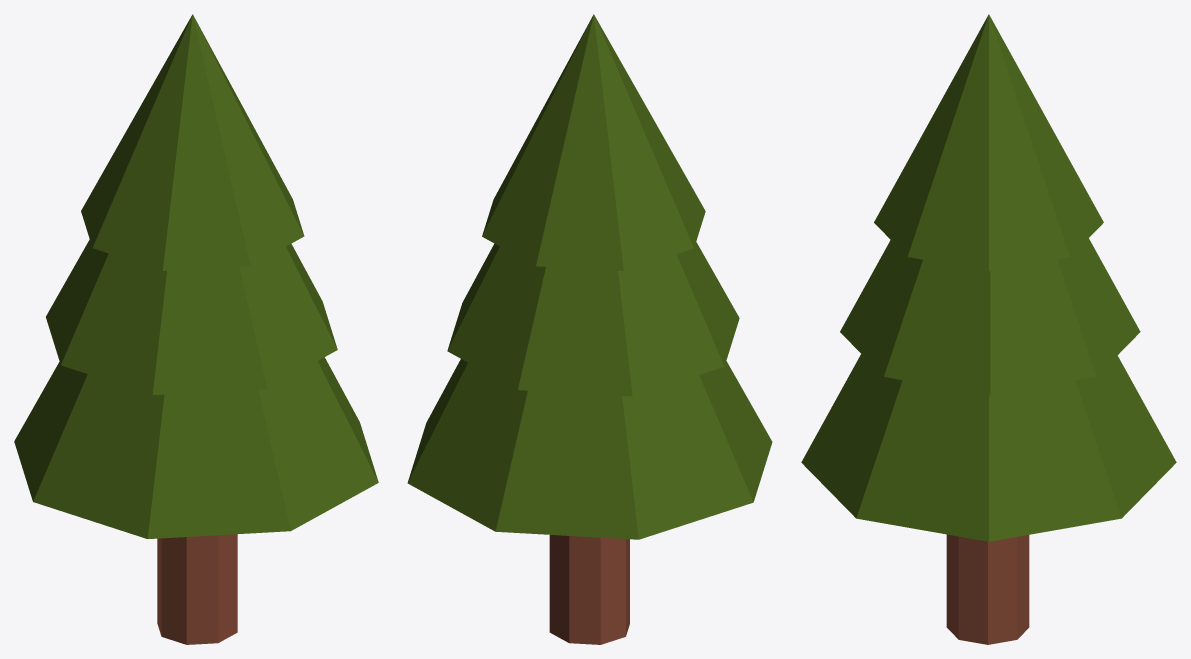
The model's file is skalertGrantre.fbx.
The picture shows the model from 3 angles, left to right: view 1: azimuth 30°, elevation 25°; view 2: azimuth 150°, elevation 25°; view 3: azimuth 270°, elevation 25°; orthographic projection.
Parts seen in each view (by area): view 1: BottomCone, MiddleCone, TopCone, Trunk; view 2: BottomCone, MiddleCone, TopCone, Trunk; view 3: BottomCone, MiddleCone, TopCone, Trunk.
Part boxes in pixels (left/top/right/bottom): BottomCone: left=14, top=357, right=378, bottom=538; MiddleCone: left=46, top=239, right=337, bottom=394; TopCone: left=81, top=14, right=304, bottom=270; Trunk: left=157, top=534, right=237, bottom=644; BottomCone: left=407, top=359, right=772, bottom=539; MiddleCone: left=447, top=242, right=739, bottom=396; TopCone: left=482, top=14, right=705, bottom=271; Trunk: left=549, top=535, right=629, bottom=644; BottomCone: left=801, top=354, right=1176, bottom=541; MiddleCone: left=840, top=238, right=1140, bottom=395; TopCone: left=874, top=14, right=1103, bottom=271; Trunk: left=946, top=534, right=1029, bottom=644.
Bounding box in the file's own units: 557 × 1001 × 557.
